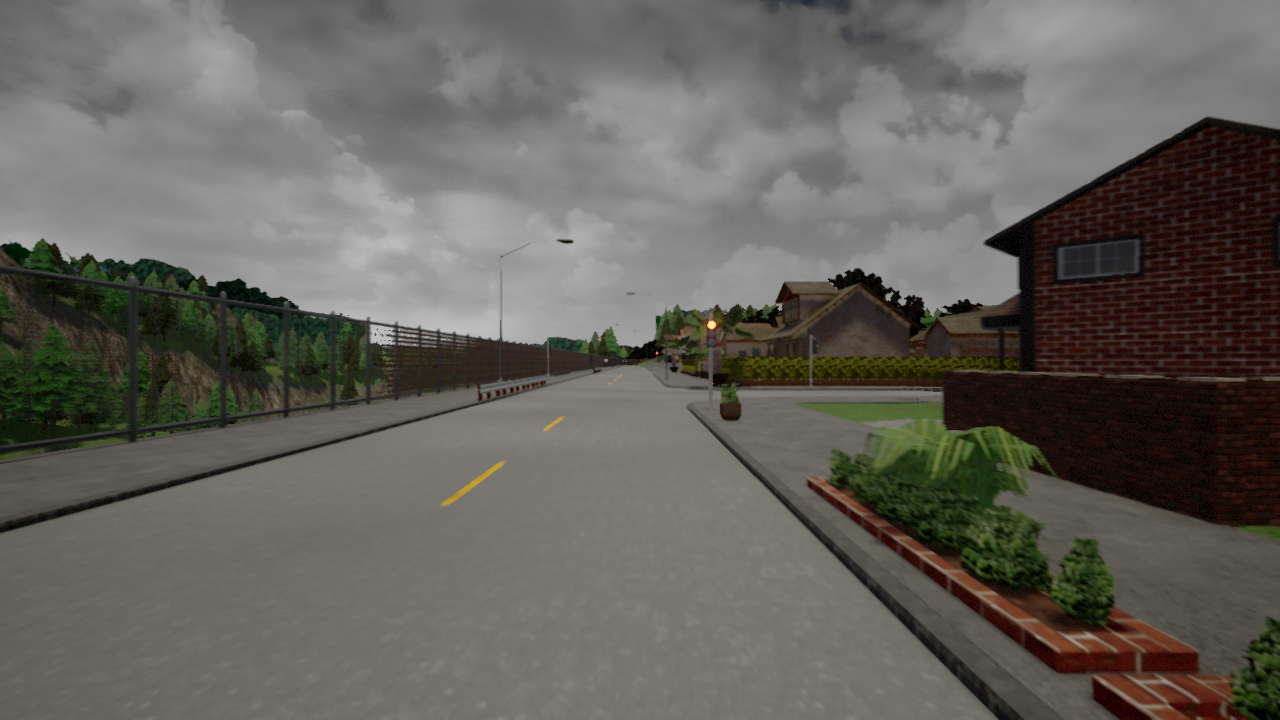red: (706, 320, 719, 346)
